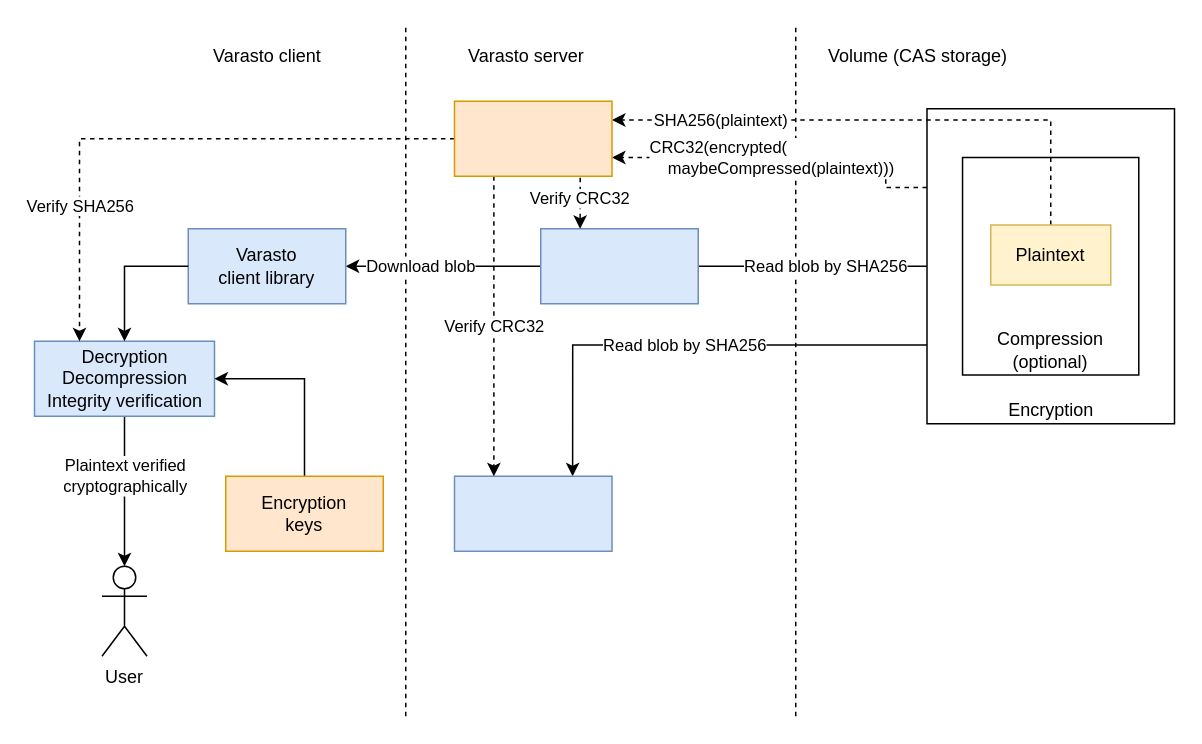
Image size: 1202x744. Some labels were removed from this diagram. Each missing label, with the centre of its shape:
"Blob server (CAS server)" belongs at point (618, 265).
"Metadata DB" belongs at point (532, 138).
"Scheduled integrity verifier" belongs at point (532, 513).
